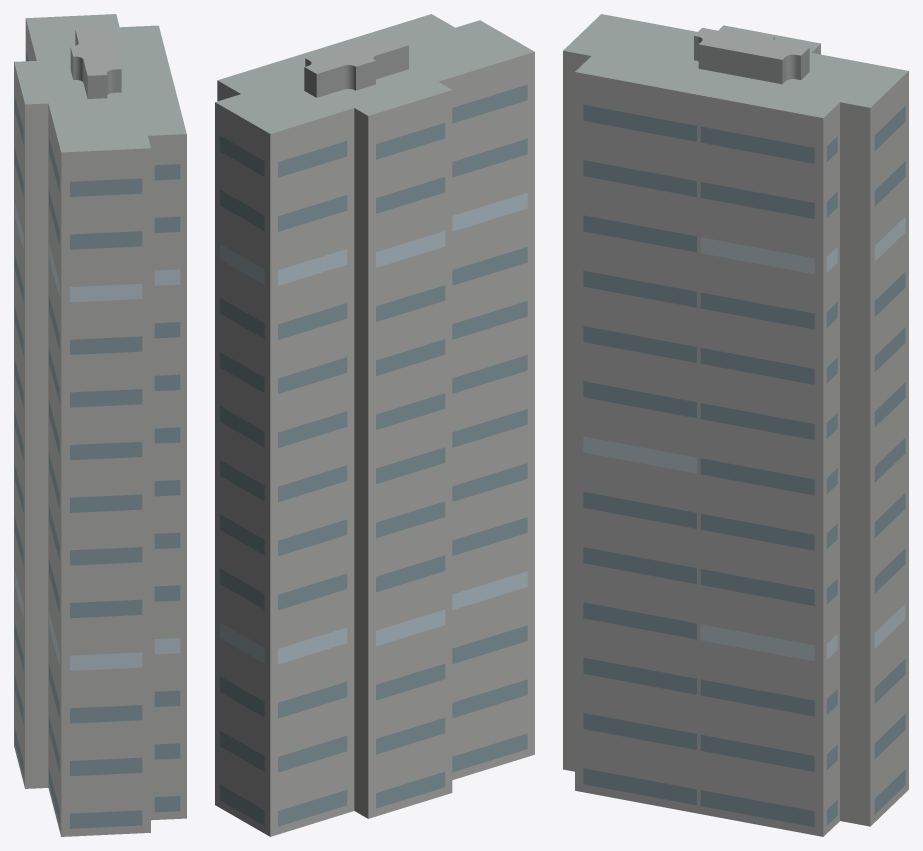
File: fallback-banpo-xi-110.glb
3 renders of one model, left to right at view 1: azimuth 30°, elevation 25°; view 2: azimuth 150°, elevation 25°; view 3: azimuth 270°, elevation 25°, orthographic. The views are drawn at different scales.
Visible parts, largest first — view 1: fallback-banpo-xi-110; view 2: fallback-banpo-xi-110; view 3: fallback-banpo-xi-110.
Part boxes in pixels (box(x1,y1,x2,y2)): fallback-banpo-xi-110: box(14, 14, 186, 836); fallback-banpo-xi-110: box(215, 14, 534, 836); fallback-banpo-xi-110: box(563, 14, 908, 836).
Size of the model in its own units: 21.95 by 73 by 30.79.
